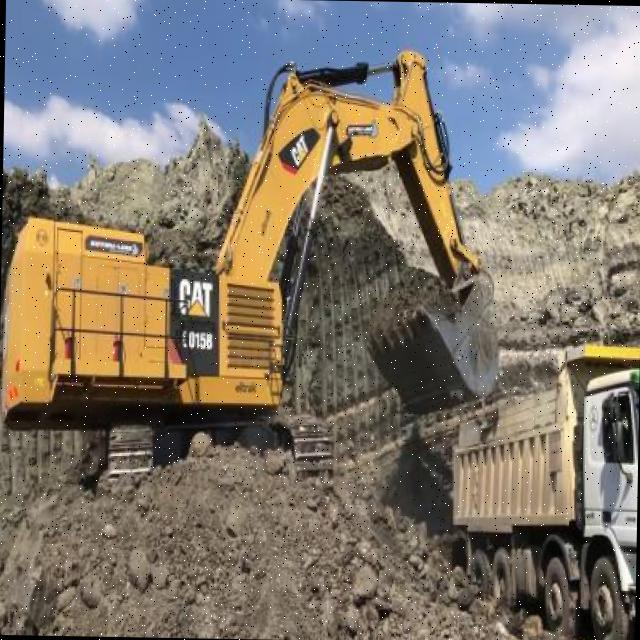Dump Truck: (450, 340, 639, 640)
Excavator: (0, 32, 506, 503)
